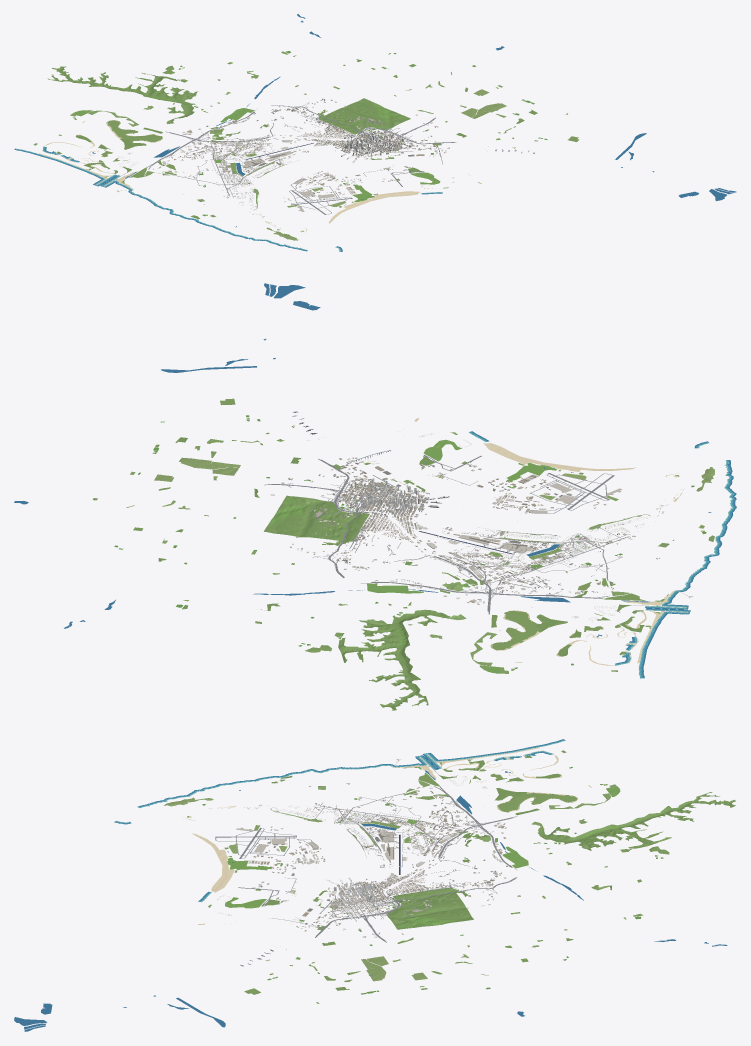
File: land.glb
The picture shows the model from 3 angles, top to bottom: view 1: azimuth 30°, elevation 25°; view 2: azimuth 150°, elevation 25°; view 3: azimuth 270°, elevation 25°; orthographic projection. The views are drawn at different scales.
Visible parts, largest first — view 1: decal-area-green, buildings, decal-roads, buildings-1, decal-shallows, decal-area-beach, decal-ponds, buildings-2, decal-real-taxiways; view 2: decal-area-green, buildings, decal-roads, buildings-1, decal-shallows, decal-area-beach, decal-ponds, buildings-2, decal-real-taxiways; view 3: decal-area-green, buildings, decal-roads, buildings-1, decal-shallows, decal-area-beach, decal-ponds, decal-real-taxiways, buildings-2, decal-real-aprons.
Part boxes in pixels (bbox=[...]): decal-area-green: bbox=[33, 51, 579, 240]; buildings: bbox=[153, 106, 390, 214]; decal-roads: bbox=[146, 102, 456, 197]; buildings-1: bbox=[295, 98, 410, 181]; decal-shallows: bbox=[14, 146, 442, 251]; decal-area-beach: bbox=[39, 120, 419, 232]; decal-ponds: bbox=[92, 14, 736, 227]; buildings-2: bbox=[336, 102, 534, 164]; decal-real-taxiways: bbox=[243, 151, 352, 214]; decal-area-green: bbox=[93, 398, 714, 710]; buildings: bbox=[339, 465, 674, 604]; decal-roads: bbox=[264, 455, 632, 614]; buildings-1: bbox=[290, 461, 472, 560]; decal-shallows: bbox=[469, 431, 736, 678]; decal-area-beach: bbox=[433, 443, 682, 665]; decal-ponds: bbox=[14, 283, 711, 637]; buildings-2: bbox=[270, 411, 391, 537]; decal-real-taxiways: bbox=[459, 473, 614, 553]; decal-area-green: bbox=[164, 750, 735, 1003]; buildings: bbox=[248, 783, 507, 886]; decal-roads: bbox=[238, 786, 517, 942]; buildings-1: bbox=[252, 882, 494, 908]; decal-shallows: bbox=[114, 739, 565, 902]; decal-area-beach: bbox=[183, 747, 591, 894]; decal-ponds: bbox=[14, 770, 727, 1031]; decal-real-taxiways: bbox=[215, 827, 398, 859]; buildings-2: bbox=[240, 905, 468, 966]; decal-real-aprons: bbox=[236, 827, 394, 859].
Bounding box in the file's own units: 68013 × 595 × 70982.
